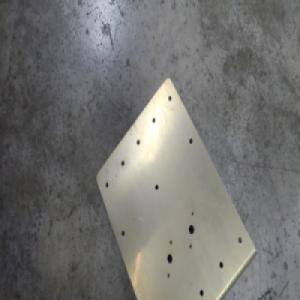MetalSheet: (93, 74, 258, 300)
